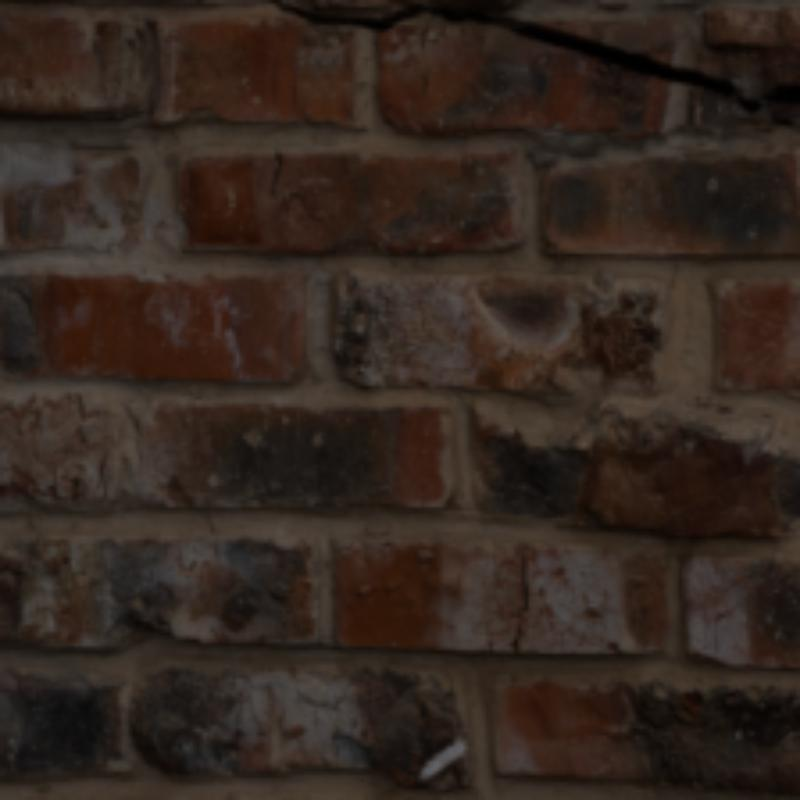pothole: (271, 1, 800, 115), (514, 554, 525, 654)
